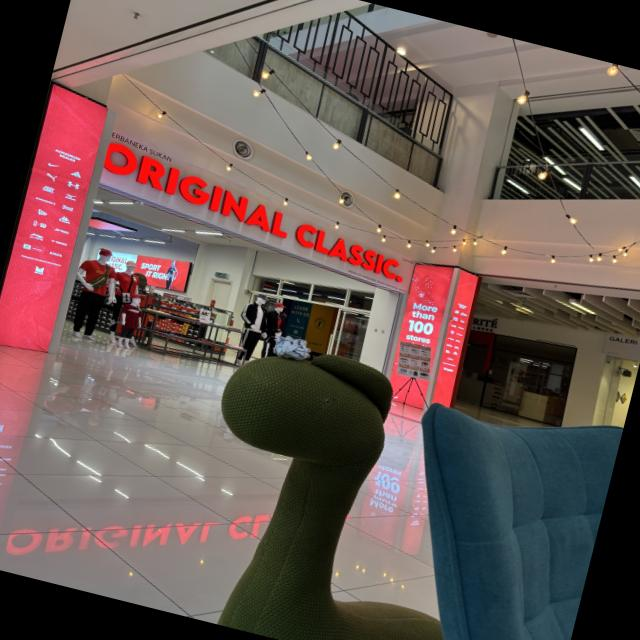crumpled_paper: (268, 330, 316, 366)
